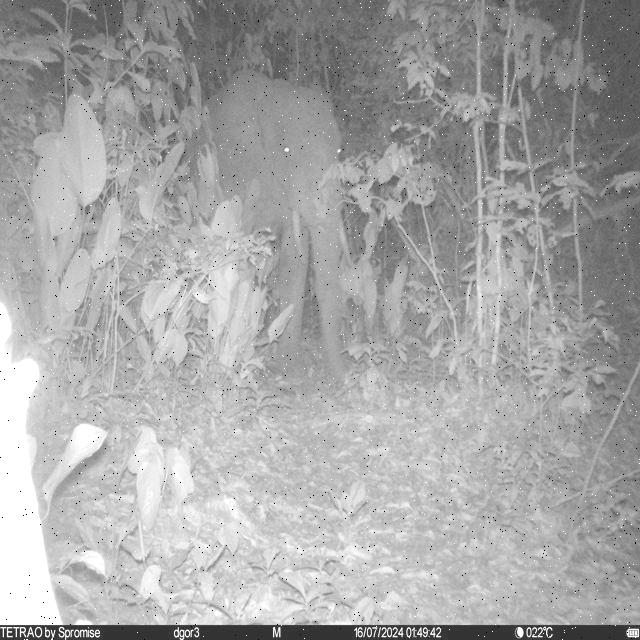elephant: (168, 66, 354, 384)
tusk: (290, 209, 309, 265), (337, 218, 354, 268)
